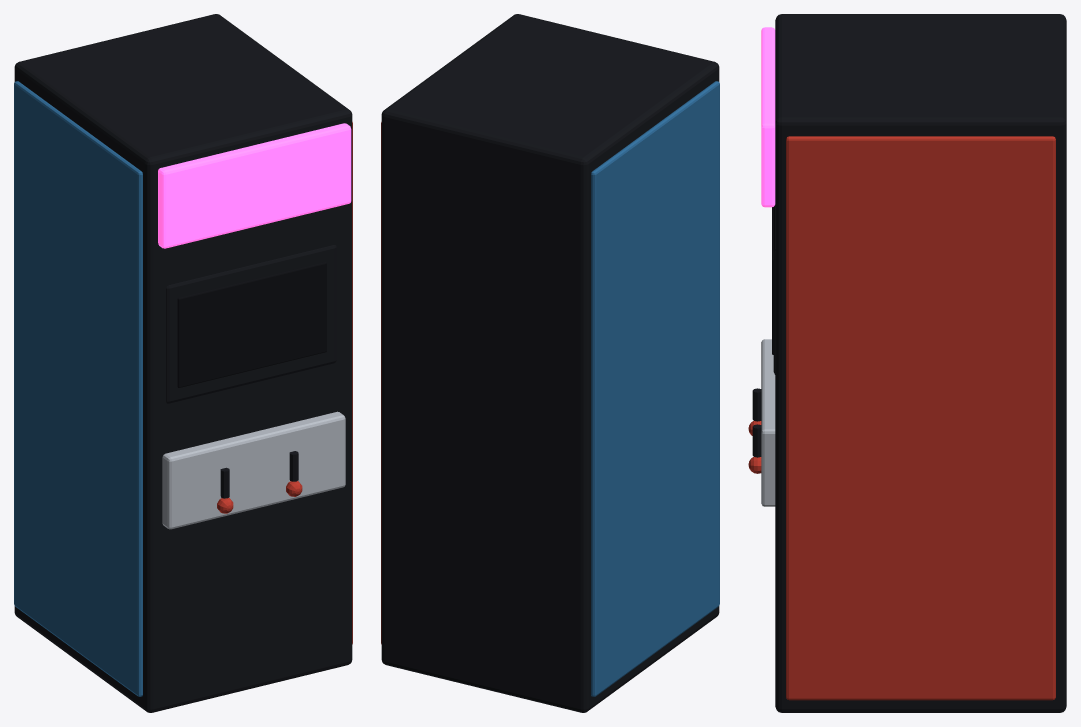
Rendered from cabinet.glb.
3 views of the same model, side by side, from view 1: azimuth 30°, elevation 25°; view 2: azimuth 150°, elevation 25°; view 3: azimuth 270°, elevation 25° (orthographic). The views are drawn at different scales.
Parts seen in each view (by area): view 1: body; view 2: body; view 3: body.
Boxes of the visible parts, x1=… form: body: x1=14, y1=14, x2=352, y2=712; body: x1=381, y1=14, x2=719, y2=712; body: x1=748, y1=14, x2=1066, y2=712.
Bounding box in the file's own units: 0.75 × 1.85 × 0.896.
